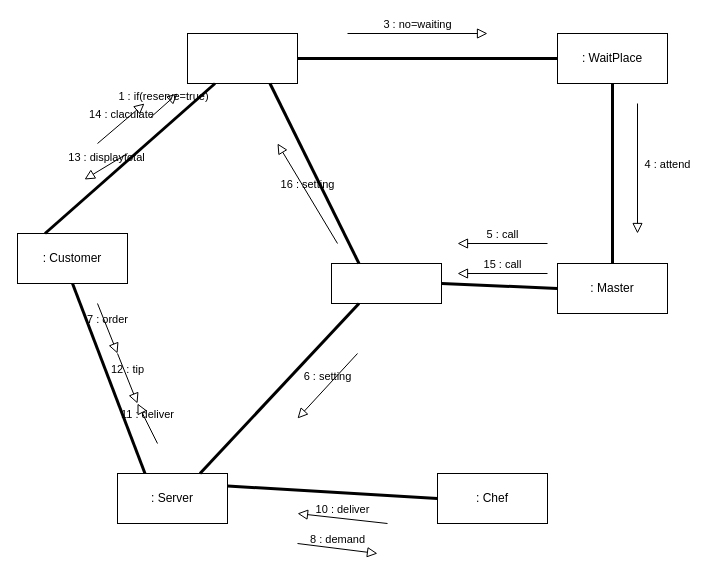
Some shapes in this 708 by 581 pixel diagram are drawn without their labels. The centre of each missing label's shape, as x and y in pixels:
: Assistant: the point at 386,283
: Counter: the point at 242,58
